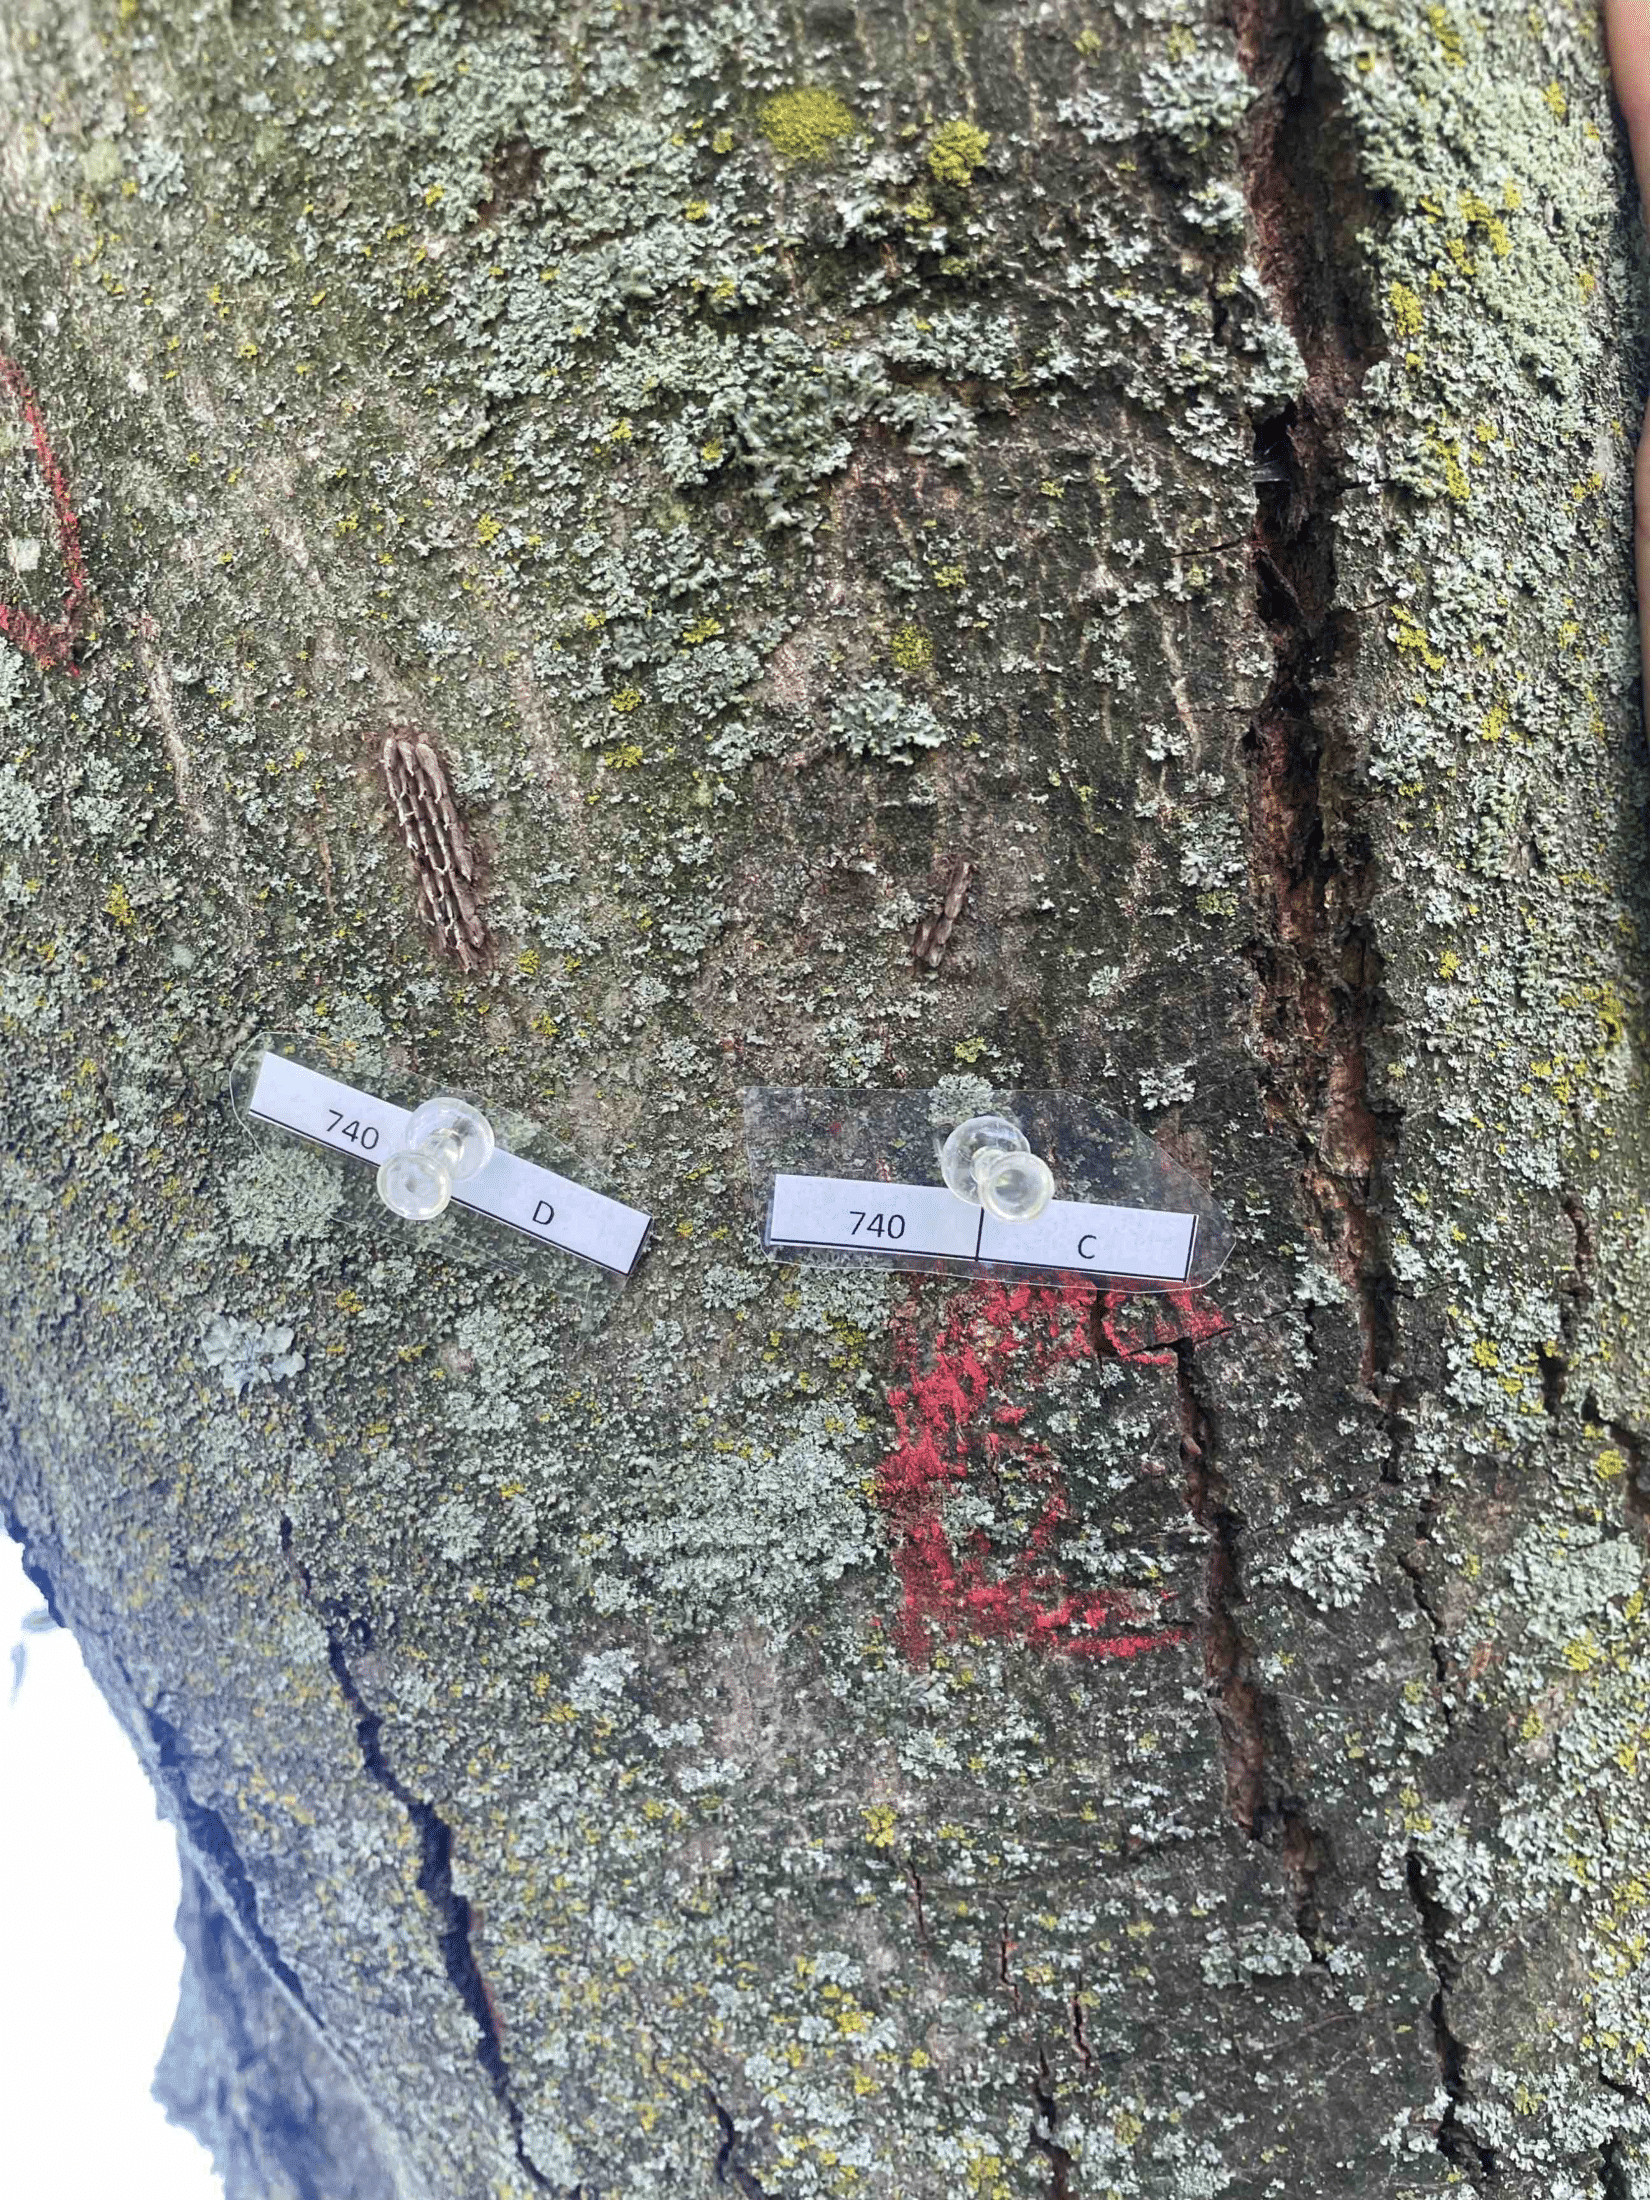egg masses: (354, 736, 520, 963)
